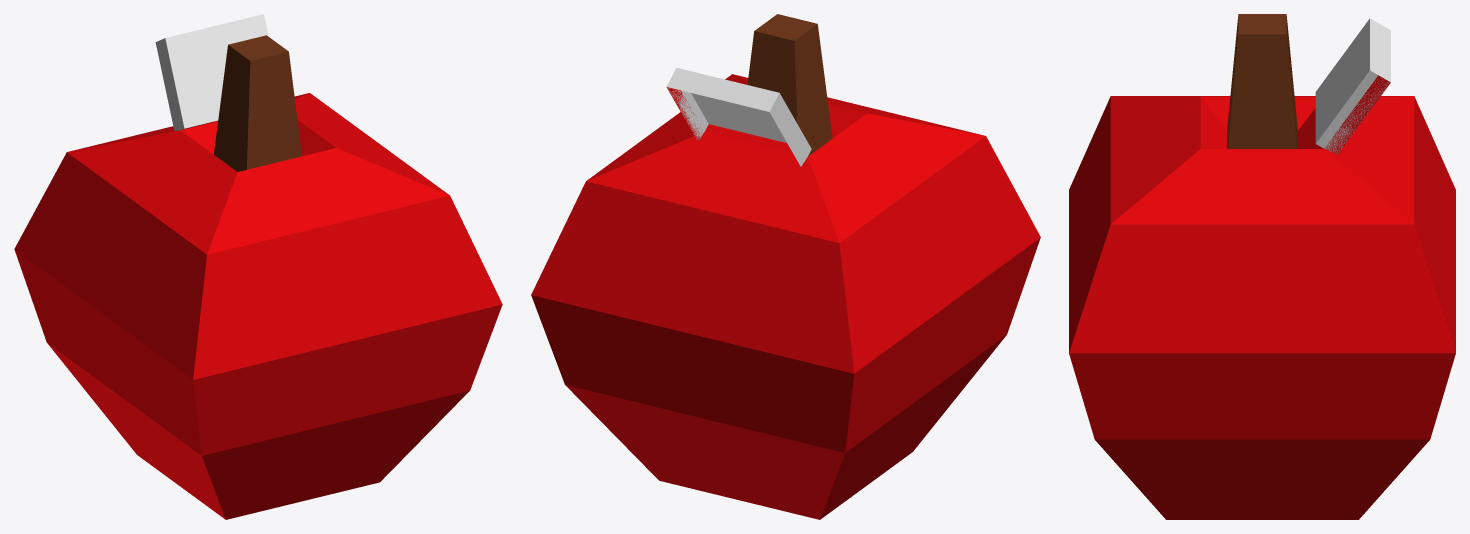
File: apple.fbx
3 renders of one model, left to right at view 1: azimuth 30°, elevation 25°; view 2: azimuth 150°, elevation 25°; view 3: azimuth 270°, elevation 25°, orthographic. The views are drawn at different scales.
Visible parts, largest first — view 1: Cube; view 2: Cube; view 3: Cube.
Part boxes in pixels (x1,y1,x2,y2): Cube: (14,14,502,519); Cube: (531,14,1040,519); Cube: (1069,14,1455,519).
Size of the model in its own units: 151 by 196 by 151.
